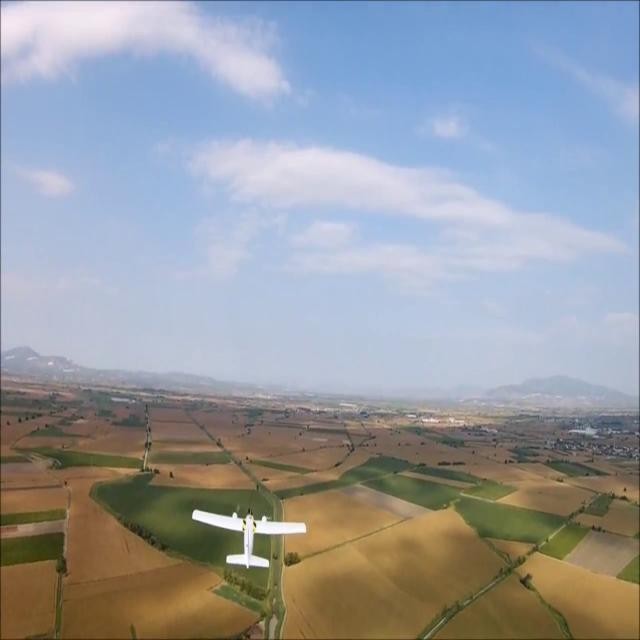iha: (224, 532, 278, 546)
